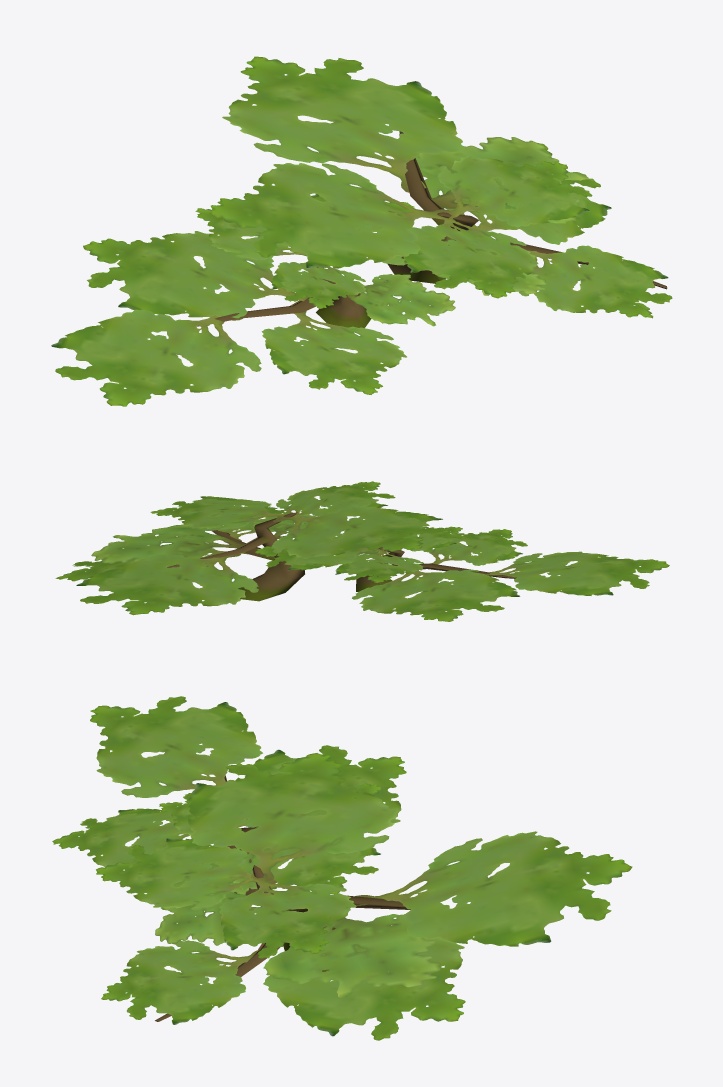
File: liemo_plant_07 (17).fbx
The picture shows the model from 3 angles, top to bottom: view 1: azimuth 30°, elevation 25°; view 2: azimuth 150°, elevation 25°; view 3: azimuth 270°, elevation 25°; orthographic projection. The views are drawn at different scales.
Parts seen in each view (by area): view 1: liemo_plant_07 (17); view 2: liemo_plant_07 (17); view 3: liemo_plant_07 (17).
Boxes of the visible parts, x1=… form: liemo_plant_07 (17): x1=51, y1=56, x2=672, y2=406; liemo_plant_07 (17): x1=55, y1=481, x2=669, y2=621; liemo_plant_07 (17): x1=52, y1=696, x2=632, y2=1040.
Size of the model in its own units: 8.9 by 1.3 by 7.44.
